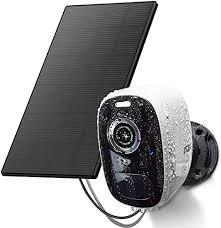tutu: (95, 87, 194, 212)
